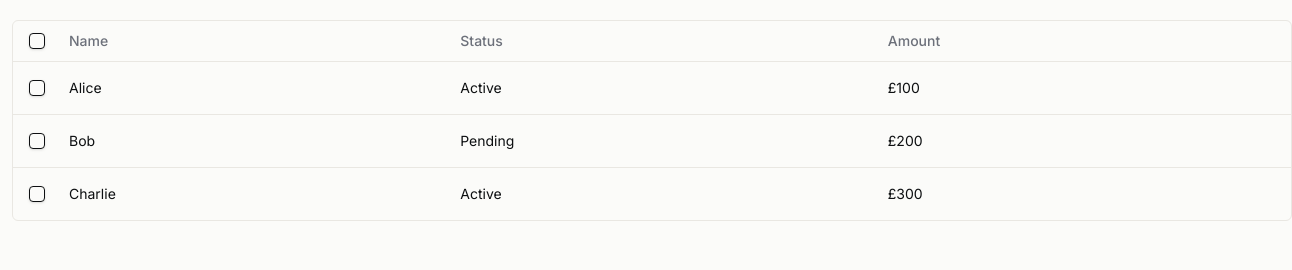
DataGrid › selection › shows bulk action buttons when rows are selected
This screenshot has width=1292, height=270.
Expected: the text "Approve" is not shown
Step 1. Click the checkbox named "Select row 1" → (37, 88), box [29, 80, 45, 96]
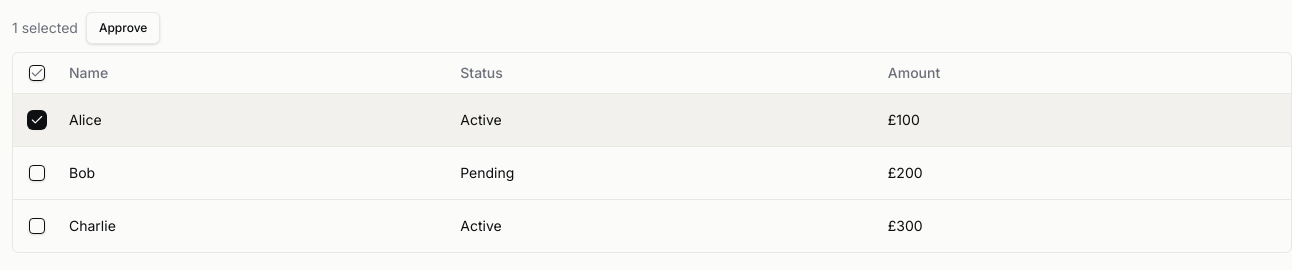
Expected: the button "Approve" is shown, [86, 12, 160, 44]
Expected: the text "1 selected" is shown, [12, 18, 78, 38]
